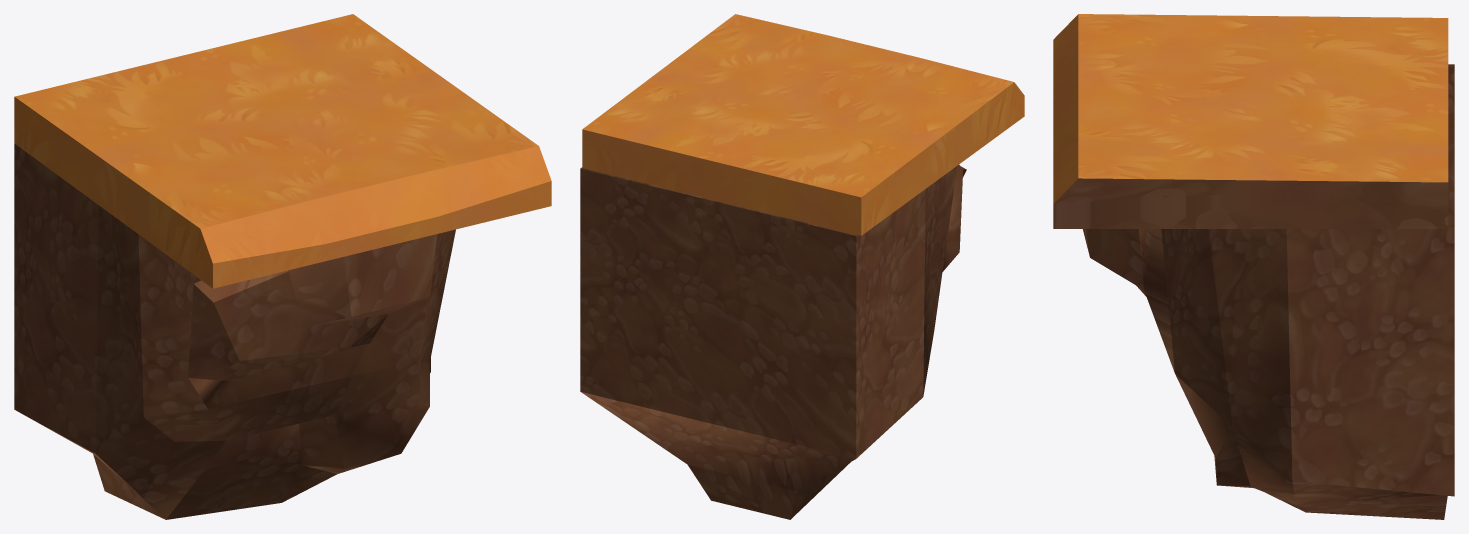
The model's file is Ground 2.FBX.
The picture shows the model from 3 angles, left to right: view 1: azimuth 30°, elevation 25°; view 2: azimuth 150°, elevation 25°; view 3: azimuth 270°, elevation 25°; orthographic projection. The views are drawn at different scales.
Parts seen in each view (by area): view 1: Object001; view 2: Object001; view 3: Object001.
Boxes of the visible parts, x1,y1,x2,y2 form: Object001: [14, 14, 551, 519]; Object001: [580, 14, 1024, 519]; Object001: [1053, 14, 1454, 519].
Size of the model in its own units: 38.87 by 46.07 by 40.06.
